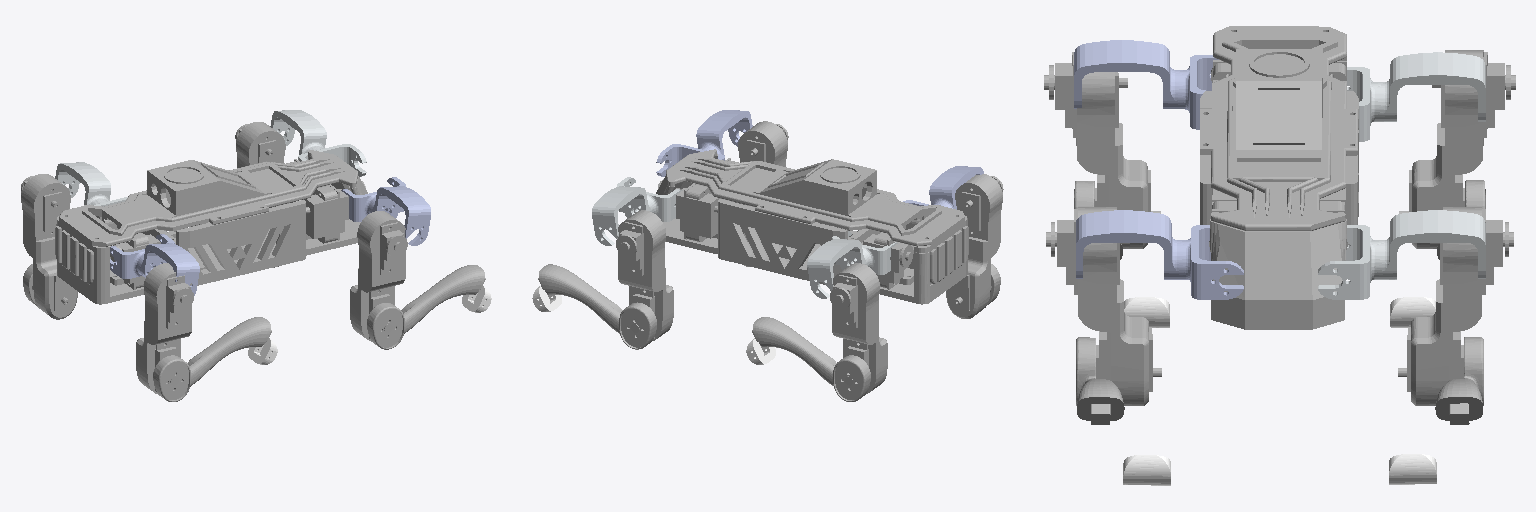
URDF robot description (xgo):
<?xml version="1.0" encoding="utf-8"?>
<!-- This URDF was automatically created by SolidWorks to URDF Exporter! Originally created by [author] ([email redacted]) 
     Commit Version: 1.6.0-4-g7f85cfe  Build Version: 1.6.7995.38578
     For more information, please see http://wiki.ros.org/sw_urdf_exporter -->
<robot
  name="xgo">
  <link name="base">
    <visual>
      <origin rpy="0 0 0" xyz="0 0 0"/>
      <geometry>
        <box size="0.001 0.001 0.001"/>
      </geometry>
    </visual>
  </link>
  <joint name="floating_base" type="fixed">
    <origin rpy="0 0 0" xyz="0 0 0"/>
    <parent link="base"/>
    <child link="body"/>
  </joint>
  <link
    name="body">
    <inertial>
      <origin
        xyz="0 0 0"
        rpy="0 0 0" />
      <mass
        value="0.28377" />
      <inertia
        ixx="0.00012081"
        ixy="2.6e-7"
        ixz="-2.87e-6"
        iyy="0.00114744"
        iyz="1.5e-7"
        izz="0.00120568" />
    </inertial>
    <visual>
      <origin
        xyz="0 0 0"
        rpy="0 0 0" />
      <geometry>
        <mesh
          filename="../meshes/body.STL" />
      </geometry>
      <material
        name="">
        <color
          rgba="0.75294 0.75294 0.75294 1" />
      </material>
    </visual>
    <collision>
      <origin
        xyz="0 0 0"
        rpy="0 0 0" />
      <geometry>
        <mesh
          filename="../meshes/body.STL" />
      </geometry>
    </collision>
  </link>
  <link
    name="fl_hip">
    <inertial>
      <origin
        xyz="-0.014472 0.025089 0.0092733"
        rpy="0 0 0" />
      <mass
        value="0.0196" />
      <inertia
        ixx="5.89E-06"
        ixy="-5.7E-07"
        ixz="-2.6E-07"
        iyy="3.79E-06"
        iyz="-1.16E-06"
        izz="6.89E-06" />
    </inertial>
    <visual>
      <origin
        xyz="0 0 0"
        rpy="0 0 0" />
      <geometry>
        <mesh
          filename="../meshes/fl_hip.STL" />
      </geometry>
      <material
        name="">
        <color
          rgba="0.89804 0.91765 0.92941 1" />
      </material>
    </visual>
    <collision>
      <origin
        xyz="0 0 0"
        rpy="0 0 0" />
      <geometry>
        <mesh
          filename="../meshes/fl_hip.STL" />
      </geometry>
    </collision>
  </link>
  <joint
    name="fl_hip_joint"
    type="revolute">
    <origin
      xyz="0.093049 0.022297 -0.00077655"
      rpy="0 0 0" />
    <parent
      link="body" />
    <child
      link="fl_hip" />
    <axis
      xyz="1 0 0" />
    <limit
      lower="-0.8"
      upper="0.8"
      effort="0.45"
      velocity="10" />
  </joint>
  <link
    name="fl_thigh">
    <inertial>
      <origin
        xyz="-0.00135 -0.01796 -0.02975"
        rpy="0 0 0" />
      <mass
        value="0.06234296" />
      <inertia
        ixx="4.672E-05"
        ixy="-1E-7"
        ixz="1.1E-7"
        iyy="4.153E-05"
        iyz="0"
        izz="9.971E-06" />
    </inertial>
    <visual>
      <origin
        xyz="0 0 0"
        rpy="0 0 0" />
      <geometry>
        <mesh
          filename="../meshes/fl_thigh.STL" />
      </geometry>
      <material
        name="">
        <color
          rgba="0.75294 0.75294 0.75294 1" />
      </material>
    </visual>
    <collision>
      <origin
        xyz="0 0 0"
        rpy="0 0 0" />
      <geometry>
        <mesh
          filename="../meshes/fl_thigh.STL" />
      </geometry>
    </collision>
  </link>
  <joint
    name="fl_thigh_joint"
    type="revolute">
    <origin
      xyz="-0.018825 0.049813 0"
      rpy="0 0 0" />
    <parent
      link="fl_hip" />
    <child
      link="fl_thigh" />
    <axis
      xyz="0 1 0" />
    <limit
      lower="-2"
      upper="2"
      effort="0.45"
      velocity="10" />
  </joint>
  <link
    name="fl_calf">
    <inertial>
      <origin
        xyz="-0.016617 -0.018825 -0.026917"
        rpy="0 0 0" />
      <mass
        value="0.02225" />
      <inertia
        ixx="1.399E-05"
        ixy="0"
        ixz="-1.09E-06"
        iyy="1.366E-05"
        iyz="0"
        izz="1.5E-06" />
    </inertial>
    <visual>
      <origin
        xyz="0 0 0"
        rpy="0 0 0" />
      <geometry>
        <mesh
          filename="../meshes/fl_calf.STL" />
      </geometry>
      <material
        name="">
        <color
          rgba="0.75294 0.75294 0.75294 1" />
      </material>
    </visual>
    <collision>
      <origin
        xyz="0 0 0"
        rpy="0 0 0" />
      <geometry>
        <mesh
          filename="../meshes/fl_calf.STL" />
      </geometry>
    </collision>
  </link>
  <joint
    name="fl_calf_joint"
    type="revolute">
    <origin
      xyz="0 0 -0.0595"
      rpy="0 0 0" />
    <parent
      link="fl_thigh" />
    <child
      link="fl_calf" />
    <axis
      xyz="0 1 0" />
    <limit
      lower="-2.69"
      upper="-0.9"
      effort="0.45"
      velocity="10" />
  </joint>
  <link
    name="fl_foot">
    <inertial>
      <origin
        xyz="-0.00092954 0 -0.0022442"
        rpy="0 0 0" />
      <mass
        value="0.00160727" />
      <inertia
        ixx="5E-08"
        ixy="0"
        ixz="1E-08"
        iyy="8E-08"
        iyz="0"
        izz="7E-08" />
    </inertial>
    <visual>
      <origin
        xyz="0 0 0"
        rpy="0 0 0" />
      <geometry>
        <mesh
          filename="../meshes/fl_foot.STL" />
      </geometry>
      <material
        name="">
        <color
          rgba="1 1 1 1" />
      </material>
    </visual>
    <collision>
      <origin
        xyz="0 0 0"
        rpy="0 0 0" />
      <geometry>
        <mesh
          filename="../meshes/fl_foot.STL" />
      </geometry>
    </collision>
  </link>
  <joint
    name="fl_foot_joint"
    type="fixed" dont_collapse="true">
    <origin
      xyz="-0.022663 -0.018825 -0.0715"
      rpy="0 0 0" />
    <parent
      link="fl_calf" />
    <child
      link="fl_foot" />
    <axis
      xyz="0 0 0" />
  </joint>
  <link
    name="fr_hip">
    <inertial>
      <origin
        xyz="-0.014472 -0.025087 0.0092733"
        rpy="0 0 0" />
      <mass
        value="0.0196" />
      <inertia
        ixx="5.89E-06"
        ixy="5.7E-07"
        ixz="-2.6E-07"
        iyy="3.79E-06"
        iyz="1.16E-06"
        izz="6.89E-06" />
    </inertial>
    <visual>
      <origin
        xyz="0 0 0"
        rpy="0 0 0" />
      <geometry>
        <mesh
          filename="../meshes/fr_hip.STL" />
      </geometry>
      <material
        name="">
        <color
          rgba="0.79216 0.81961 0.93333 1" />
      </material>
    </visual>
    <collision>
      <origin
        xyz="0 0 0"
        rpy="0 0 0" />
      <geometry>
        <mesh
          filename="../meshes/fr_hip.STL" />
      </geometry>
    </collision>
  </link>
  <joint
    name="fr_hip_joint"
    type="revolute">
    <origin
      xyz="0.093049 -0.022303 -0.00077372"
      rpy="0 0 0" />
    <parent
      link="body" />
    <child
      link="fr_hip" />
    <axis
      xyz="1 0 0" />
    <limit
      lower="-0.8"
      upper="0.8"
      effort="0.45"
      velocity="10" />
  </joint>
  <link
    name="fr_thigh">
    <inertial>
      <origin
        xyz="-0.0044234 0.01867 -0.02975"
        rpy="0 0 0" />
      <mass
        value="0.06234296" />
      <inertia
        ixx="4.672E-05"
        ixy="1E-7"
        ixz="1.1E-7"
        iyy="4.153E-05"
        iyz="0"
        izz="9.971E-06" />
    </inertial>
    <visual>
      <origin
        xyz="0 0 0"
        rpy="0 0 0" />
      <geometry>
        <mesh
          filename="../meshes/fr_thigh.STL" />
      </geometry>
      <material
        name="">
        <color
          rgba="0.75294 0.75294 0.75294 1" />
      </material>
    </visual>
    <collision>
      <origin
        xyz="0 0 0"
        rpy="0 0 0" />
      <geometry>
        <mesh
          filename="../meshes/fr_thigh.STL" />
      </geometry>
    </collision>
  </link>
  <joint
    name="fr_thigh_joint"
    type="revolute">
    <origin
      xyz="-0.018825 -0.049811 0"
      rpy="0 0 0" />
    <parent
      link="fr_hip" />
    <child
      link="fr_thigh" />
    <axis
      xyz="0 1 0" />
    <limit
      lower="-2"
      upper="2"
      effort="0.45"
      velocity="10" />
  </joint>
  <link
    name="fr_calf">
    <inertial>
      <origin
        xyz="-0.016617 0.018825 -0.026917"
        rpy="0 0 0" />
      <mass
        value="0.02225" />
      <inertia
        ixx="1.399E-05"
        ixy="0"
        ixz="-1.09E-06"
        iyy="1.366E-05"
        iyz="0"
        izz="1.5E-06" />
    </inertial>
    <visual>
      <origin
        xyz="0 0 0"
        rpy="0 0 0" />
      <geometry>
        <mesh
          filename="../meshes/fr_calf.STL" />
      </geometry>
      <material
        name="">
        <color
          rgba="0.75294 0.75294 0.75294 1" />
      </material>
    </visual>
    <collision>
      <origin
        xyz="0 0 0"
        rpy="0 0 0" />
      <geometry>
        <mesh
          filename="../meshes/fr_calf.STL" />
      </geometry>
    </collision>
  </link>
  <joint
    name="fr_calf_joint"
    type="revolute">
    <origin
      xyz="0.00019993 0 -0.0595"
      rpy="0 0 0" />
    <parent
      link="fr_thigh" />
    <child
      link="fr_calf" />
    <axis
      xyz="0 1 0" />
    <limit
      lower="-2.69"
      upper="-0.9"
      effort="0.45"
      velocity="10" />
  </joint>
  <link
    name="fr_foot">
    <inertial>
      <origin
        xyz="-0.000929610847488466 -4.50096803022992E-08 -0.00224418223925019"
        rpy="0 0 0" />
      <mass
        value="0.00160727" />
      <inertia
        ixx="5E-08"
        ixy="0"
        ixz="1E-08"
        iyy="8E-08"
        iyz="0"
        izz="7E-08" />
    </inertial>
    <visual>
      <origin
        xyz="0 0 0"
        rpy="0 0 0" />
      <geometry>
        <mesh
          filename="../meshes/fr_foot.STL" />
      </geometry>
      <material
        name="">
        <color
          rgba="1 1 1 1" />
      </material>
    </visual>
    <collision>
      <origin
        xyz="0 0 0"
        rpy="0 0 0" />
      <geometry>
        <mesh
          filename="../meshes/fr_foot.STL" />
      </geometry>
    </collision>
  </link>
  <joint
    name="fr_foot_joint"
    type="fixed" dont_collapse="true">
    <origin
      xyz="-0.022663 0.018825 -0.0715"
      rpy="0 0 0" />
    <parent
      link="fr_calf" />
    <child
      link="fr_foot" />
    <axis
      xyz="0 0 0" />
  </joint>
  <link
    name="bl_hip">
    <inertial>
      <origin
        xyz="-0.0139719978465255 0.0250874114611194 0.00927328906936255"
        rpy="0 0 0" />
      <mass
        value="0.0196" />
      <inertia
        ixx="5.89E-06"
        ixy="-5.7E-07"
        ixz="-2.6E-07"
        iyy="3.79E-06"
        iyz="-1.16E-06"
        izz="6.89E-06" />
    </inertial>
    <visual>
      <origin
        xyz="0 0 0"
        rpy="0 0 0" />
      <geometry>
        <mesh
          filename="../meshes/bl_hip.STL" />
      </geometry>
      <material
        name="">
        <color
          rgba="0.898039215686275 0.917647058823529 0.929411764705882 1" />
      </material>
    </visual>
    <collision>
      <origin
        xyz="0 0 0"
        rpy="0 0 0" />
      <geometry>
        <mesh
          filename="../meshes/bl_hip.STL" />
      </geometry>
    </collision>
  </link>
  <joint
    name="bl_hip_joint"
    type="revolute">
    <origin
      xyz="-0.056701 0.022297 -0.00077655"
      rpy="0 0 0" />
    <parent
      link="body" />
    <child
      link="bl_hip" />
    <axis
      xyz="1 0 0" />
    <limit
      lower="-0.8"
      upper="0.8"
      effort="0.45"
      velocity="10" />
  </joint>
  <link
    name="bl_thigh">
    <inertial>
      <origin
        xyz="-0.0044577 -0.01867 -0.02975"
        rpy="0 0 0" />
      <mass
        value="0.06234296" />
      <inertia
        ixx="4.672E-05"
        ixy="-1E-7"
        ixz="1.1E-7"
        iyy="4.153E-05"
        iyz="0"
        izz="9.971E-06" />
    </inertial>
    <visual>
      <origin
        xyz="0 0 0"
        rpy="0 0 0" />
      <geometry>
        <mesh
          filename="../meshes/bl_thigh.STL" />
      </geometry>
      <material
        name="">
        <color
          rgba="0.75294 0.75294 0.75294 1" />
      </material>
    </visual>
    <collision>
      <origin
        xyz="0 0 0"
        rpy="0 0 0" />
      <geometry>
        <mesh
          filename="../meshes/bl_thigh.STL" />
      </geometry>
    </collision>
  </link>
  <joint
    name="bl_thigh_joint"
    type="revolute">
    <origin
      xyz="-0.018325 0.049811 0"
      rpy="0 0 0" />
    <parent
      link="bl_hip" />
    <child
      link="bl_thigh" />
    <axis
      xyz="0 1 0" />
    <limit
      lower="-2"
      upper="2"
      effort="0.45"
      velocity="10" />
  </joint>
  <link
    name="bl_calf">
    <inertial>
      <origin
        xyz="-0.0166167777717992 -0.0188249730950225 -0.026917070061231"
        rpy="0 0 0" />
      <mass
        value="0.02225" />
      <inertia
        ixx="1.399E-05"
        ixy="0"
        ixz="-1.09E-06"
        iyy="1.366E-05"
        iyz="0"
        izz="1.5E-06" />
    </inertial>
    <visual>
      <origin
        xyz="0 0 0"
        rpy="0 0 0" />
      <geometry>
        <mesh
          filename="../meshes/bl_calf.STL" />
      </geometry>
      <material
        name="">
        <color
          rgba="0.752941176470588 0.752941176470588 0.752941176470588 1" />
      </material>
    </visual>
    <collision>
      <origin
        xyz="0 0 0"
        rpy="0 0 0" />
      <geometry>
        <mesh
          filename="../meshes/bl_calf.STL" />
      </geometry>
    </collision>
  </link>
  <joint
    name="bl_calf_joint"
    type="revolute">
    <origin
      xyz="0 0 -0.0595"
      rpy="0 0 0" />
    <parent
      link="bl_thigh" />
    <child
      link="bl_calf" />
    <axis
      xyz="0 1 0" />
    <limit
      lower="-2.69"
      upper="-0.9"
      effort="0.45"
      velocity="10" />
  </joint>
  <link
    name="bl_foot">
    <inertial>
      <origin
        xyz="-0.00092961 -4.501E-08 -0.0022442"
        rpy="0 0 0" />
      <mass
        value="0.00160727" />
      <inertia
        ixx="5E-08"
        ixy="0"
        ixz="1E-08"
        iyy="8E-08"
        iyz="0"
        izz="7E-08" />
    </inertial>
    <visual>
      <origin
        xyz="0 0 0"
        rpy="0 0 0" />
      <geometry>
        <mesh
          filename="../meshes/bl_foot.STL" />
      </geometry>
      <material
        name="">
        <color
          rgba="1 1 1 1" />
      </material>
    </visual>
    <collision>
      <origin
        xyz="0 0 0"
        rpy="0 0 0" />
      <geometry>
        <mesh
          filename="../meshes/bl_foot.STL" />
      </geometry>
    </collision>
  </link>
  <joint
    name="bl_foot_joint"
    type="fixed" dont_collapse="true">
    <origin
      xyz="-0.022663 -0.018825 -0.0715"
      rpy="0 0 0" />
    <parent
      link="bl_calf" />
    <child
      link="bl_foot" />
    <axis
      xyz="0 0 0" />
  </joint>
  <link
    name="br_hip">
    <inertial>
      <origin
        xyz="-0.0139720126736417 -0.0250874024827749 0.00927327962848533"
        rpy="0 0 0" />
      <mass
        value="0.0196" />
      <inertia
        ixx="5.89E-06"
        ixy="5.7E-07"
        ixz="-2.6E-07"
        iyy="3.79E-06"
        iyz="1.16E-06"
        izz="6.89E-06" />
    </inertial>
    <visual>
      <origin
        xyz="0 0 0"
        rpy="0 0 0" />
      <geometry>
        <mesh
          filename="../meshes/br_hip.STL" />
      </geometry>
      <material
        name="">
        <color
          rgba="0.792156862745098 0.819607843137255 0.933333333333333 1" />
      </material>
    </visual>
    <collision>
      <origin
        xyz="0 0 0"
        rpy="0 0 0" />
      <geometry>
        <mesh
          filename="../meshes/br_hip.STL" />
      </geometry>
    </collision>
  </link>
  <joint
    name="br_hip_joint"
    type="revolute">
    <origin
      xyz="-0.056701 -0.022303 -0.00077372"
      rpy="0 0 0" />
    <parent
      link="body" />
    <child
      link="br_hip" />
    <axis
      xyz="1 0 0" />
    <limit
      lower="-0.8"
      upper="0.8"
      effort="0.45"
      velocity="10" />
  </joint>
  <link
    name="br_thigh">
    <inertial>
      <origin
        xyz="-0.0044234 0.01867 -0.02975"
        rpy="0 0 0" />
      <mass
        value="0.06234296" />
      <inertia
        ixx="4.672E-05"
        ixy="1E-7"
        ixz="1.1E-7"
        iyy="4.153E-05"
        iyz="0"
        izz="9.971E-06" />
    </inertial>
    <visual>
      <origin
        xyz="0 0 0"
        rpy="0 0 0" />
      <geometry>
        <mesh
          filename="../meshes/br_thigh.STL" />
      </geometry>
      <material
        name="">
        <color
          rgba="0.75294 0.75294 0.75294 1" />
      </material>
    </visual>
    <collision>
      <origin
        xyz="0 0 0"
        rpy="0 0 0" />
      <geometry>
        <mesh
          filename="../meshes/br_thigh.STL" />
      </geometry>
    </collision>
  </link>
  <joint
    name="br_thigh_joint"
    type="revolute">
    <origin
      xyz="-0.018325 -0.049811 0"
      rpy="0 0 0" />
    <parent
      link="br_hip" />
    <child
      link="br_thigh" />
    <axis
      xyz="0 1 0" />
    <limit
      lower="-2"
      upper="2"
      effort="0.45"
      velocity="10" />
  </joint>
  <link
    name="br_calf">
    <inertial>
      <origin
        xyz="-0.016617 0.018825 -0.026917"
        rpy="0 0 0" />
      <mass
        value="0.02225" />
      <inertia
        ixx="1.399E-05"
        ixy="0"
        ixz="-1.09E-06"
        iyy="1.366E-05"
        iyz="0"
        izz="1.5E-06" />
    </inertial>
    <visual>
      <origin
        xyz="0 0 0"
        rpy="0 0 0" />
      <geometry>
        <mesh
          filename="../meshes/br_calf.STL" />
      </geometry>
      <material
        name="">
        <color
          rgba="0.75294 0.75294 0.75294 1" />
      </material>
    </visual>
    <collision>
      <origin
        xyz="0 0 0"
        rpy="0 0 0" />
      <geometry>
        <mesh
          filename="../meshes/br_calf.STL" />
      </geometry>
    </collision>
  </link>
  <joint
    name="br_calf_joint"
    type="revolute">
    <origin
      xyz="0.00019993 0 -0.0595"
      rpy="0 0 0" />
    <parent
      link="br_thigh" />
    <child
      link="br_calf" />
    <axis
      xyz="0 1 0" />
    <limit
      lower="-2.69"
      upper="-0.9"
      effort="0.45"
      velocity="10" />
  </joint>
  <link
    name="br_foot">
    <inertial>
      <origin
        xyz="-0.00092961 -4.501E-08 -0.0022442"
        rpy="0 0 0" />
      <mass
        value="0.00160727" />
      <inertia
        ixx="5E-08"
        ixy="0"
        ixz="1E-08"
        iyy="8E-08"
        iyz="0"
        izz="7E-08" />
    </inertial>
    <visual>
      <origin
        xyz="0 0 0"
        rpy="0 0 0" />
      <geometry>
        <mesh
          filename="../meshes/br_foot.STL" />
      </geometry>
      <material
        name="">
        <color
          rgba="1 1 1 1" />
      </material>
    </visual>
    <collision>
      <origin
        xyz="0 0 0"
        rpy="0 0 0" />
      <geometry>
        <mesh
          filename="../meshes/br_foot.STL" />
      </geometry>
    </collision>
  </link>
  <joint
    name="br_foot_joint"
    type="fixed" dont_collapse="true">
    <origin
      xyz="-0.022663 0.018825 -0.0715"
      rpy="0 0 0" />
    <parent
      link="br_calf" />
    <child
      link="br_foot" />
    <axis
      xyz="0 0 0" />
  </joint>
</robot>

--- Render facts (derived) ---
The picture shows the robot from 3 angles, left to right: view 1: azimuth 30°, elevation 25°; view 2: azimuth 150°, elevation 25°; view 3: azimuth 270°, elevation 25°; orthographic projection.
Model xgo with 18 links and 17 joints (12 revolute, 5 fixed), rooted at base, posed joints at zero except 4 at the middle of their limits (fl_calf_joint = -1.79, fr_calf_joint = -1.79, bl_calf_joint = -1.79, br_calf_joint = -1.79).
Visible links, largest first — view 1: body, bl_thigh, fr_thigh, br_thigh, br_calf, fr_calf, fr_hip, br_hip, fl_hip, fl_thigh, bl_hip; view 2: body, br_thigh, fl_thigh, bl_thigh, bl_calf, fl_calf, fl_hip, bl_hip, fr_hip, fr_thigh, br_hip; view 3: body, fr_thigh, fl_thigh, br_thigh, bl_thigh, fl_hip, fr_hip, br_hip, bl_hip, fl_calf, fr_calf, fl_foot (+5 smaller).
Link boxes in pixels (bbox=[...]): body: bbox=[55, 150, 367, 304]; bl_thigh: bbox=[21, 174, 77, 319]; fr_thigh: bbox=[350, 211, 407, 341]; br_thigh: bbox=[136, 263, 193, 394]; br_calf: bbox=[153, 317, 271, 401]; fr_calf: bbox=[367, 265, 485, 349]; fr_hip: bbox=[341, 177, 430, 245]; br_hip: bbox=[110, 234, 199, 295]; fl_hip: bbox=[270, 110, 366, 176]; fl_thigh: bbox=[235, 122, 285, 267]; bl_hip: bbox=[55, 162, 127, 206]; body: bbox=[656, 149, 968, 304]; br_thigh: bbox=[946, 174, 1003, 318]; fl_thigh: bbox=[616, 210, 673, 340]; bl_thigh: bbox=[830, 263, 887, 393]; bl_calf: bbox=[752, 317, 870, 401]; fl_calf: bbox=[538, 264, 656, 349]; fl_hip: bbox=[592, 177, 682, 245]; bl_hip: bbox=[807, 231, 897, 298]; fr_hip: bbox=[656, 110, 752, 176]; fr_thigh: bbox=[738, 121, 788, 266]; br_hip: bbox=[903, 166, 983, 209]; body: bbox=[1200, 26, 1358, 329]; fr_thigh: bbox=[1046, 207, 1161, 405]; fl_thigh: bbox=[1398, 207, 1513, 405]; br_thigh: bbox=[1044, 52, 1160, 248]; bl_thigh: bbox=[1399, 50, 1515, 248]; fl_hip: bbox=[1318, 210, 1485, 299]; fr_hip: bbox=[1076, 210, 1243, 299]; br_hip: bbox=[1074, 40, 1218, 129]; bl_hip: bbox=[1347, 52, 1485, 141]; fl_calf: bbox=[1435, 337, 1483, 424]; fr_calf: bbox=[1076, 337, 1124, 424]; fl_foot: bbox=[1389, 454, 1436, 484].
Size in the robot's own frame: 0.2556 by 0.1893 by 0.1076 metres.
Meshes: 17 distinct files referenced, 17 mesh visuals loaded (17 binary STL).